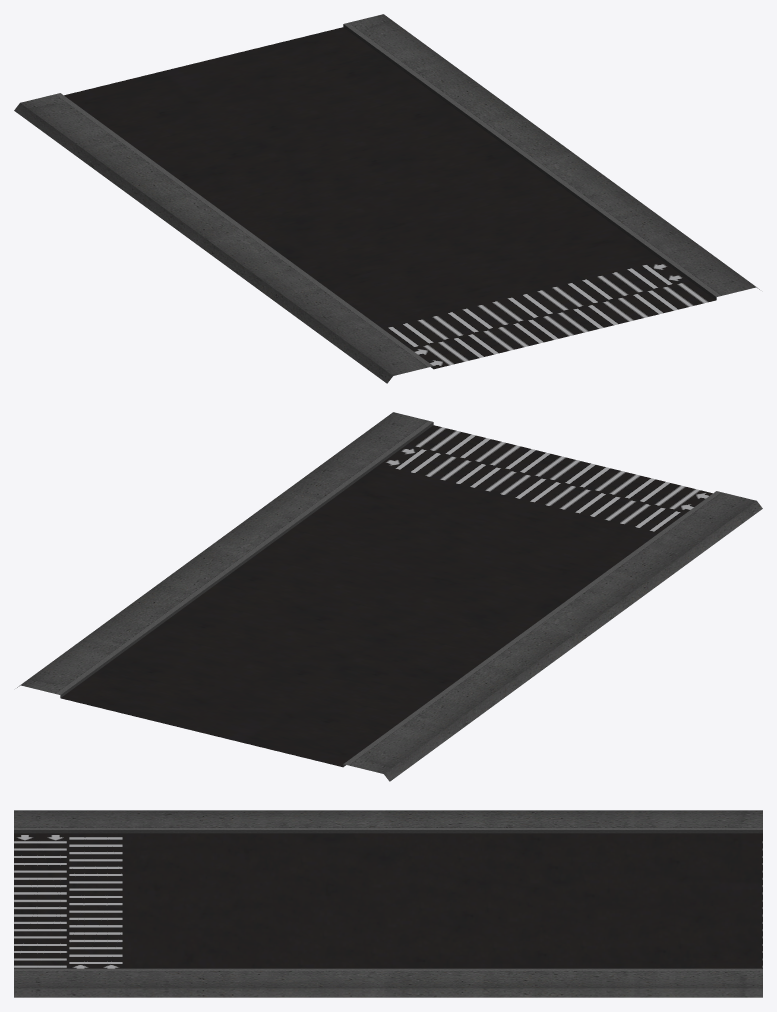
The model's file is RJs_Road 3+4 Basic Node.fbx.
3 views of the same model, one above another, from view 1: azimuth 30°, elevation 25°; view 2: azimuth 150°, elevation 25°; view 3: azimuth 270°, elevation 25° (orthographic).
Parts seen in each view (by area): view 1: plane; view 2: plane; view 3: plane.
Part boxes in pixels (box(x1,y1,x2,y2)): plane: box(14, 14, 759, 383); plane: box(17, 412, 762, 781); plane: box(14, 810, 762, 997).
Size of the model in its own units: 3720 by 60.1 by 6400.
